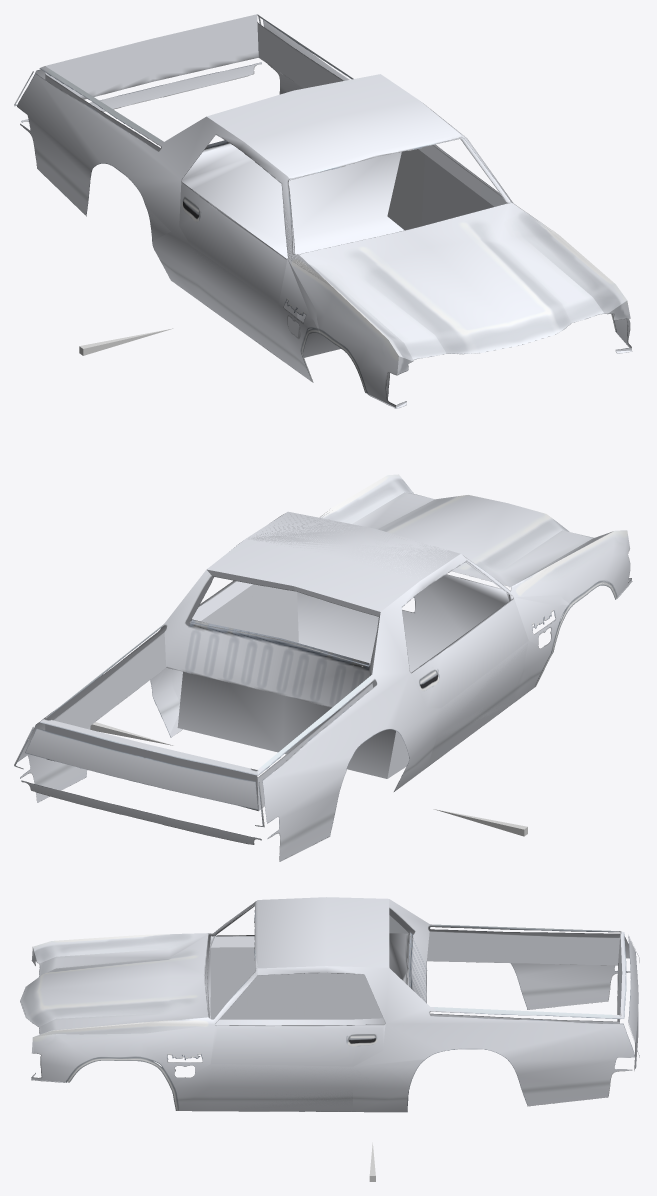
The model's file is Palamino.FBX.
3 renders of one model, top to bottom at view 1: azimuth 30°, elevation 25°; view 2: azimuth 150°, elevation 25°; view 3: azimuth 270°, elevation 25°, orthographic. The views are drawn at different scales.
Parts seen in each view (by area): view 1: Palamino1BodyLores, Palamino3BodyDoorCut, DoorR, Palamino2BodyWindowed; view 2: Palamino1BodyLores, Palamino3BodyDoorCut, DoorR, Palamino2BodyWindowed, EnterR; view 3: Palamino1BodyLores, DoorL, Palamino3BodyDoorCut, Palamino2BodyWindowed.
Boxes of the visible parts, x1,y1,x2,y2 form: Palamino1BodyLores: [14, 14, 632, 408]; Palamino3BodyDoorCut: [145, 198, 631, 407]; DoorR: [179, 181, 287, 310]; Palamino2BodyWindowed: [204, 135, 631, 349]; Palamino1BodyLores: [14, 474, 632, 861]; Palamino3BodyDoorCut: [152, 514, 631, 790]; DoorR: [410, 599, 528, 752]; Palamino2BodyWindowed: [167, 474, 404, 669]; EnterR: [433, 809, 527, 836]; Palamino1BodyLores: [20, 897, 639, 1112]; DoorL: [210, 1024, 385, 1100]; Palamino3BodyDoorCut: [31, 908, 423, 1111]; Palamino2BodyWindowed: [37, 914, 428, 1077].
Size of what is drawn, in the model's own units: 331 by 145 by 500.
